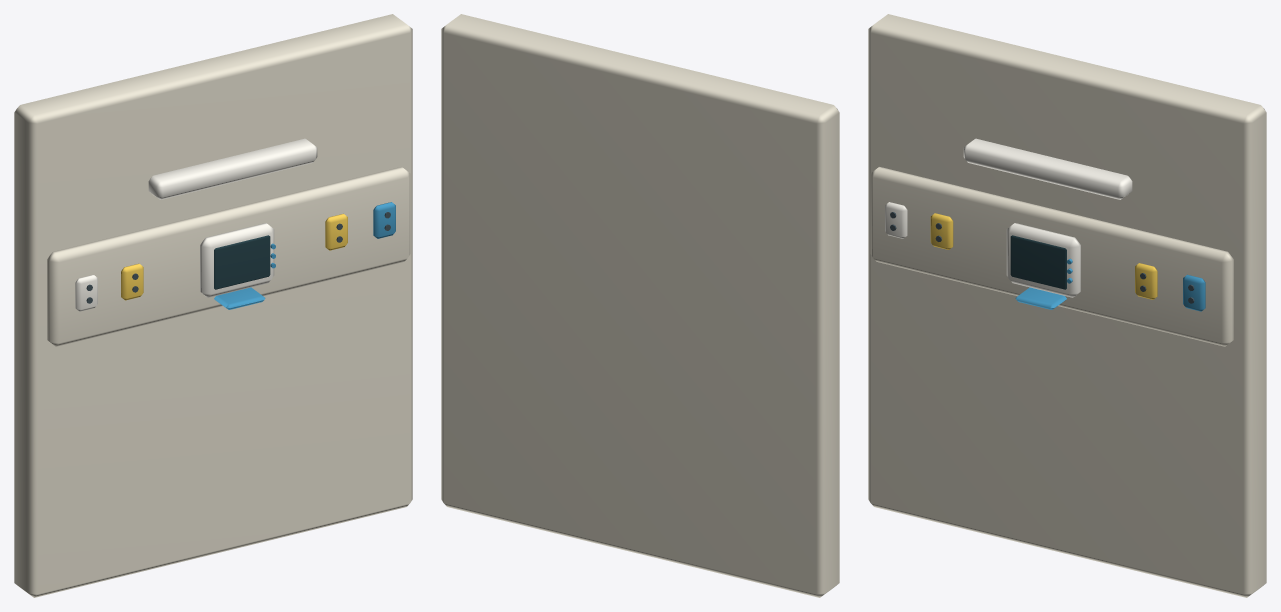
The model's file is RecoveryHeadwall_starter.glb.
3 renders of one model, left to right at view 1: azimuth 30°, elevation 25°; view 2: azimuth 150°, elevation 25°; view 3: azimuth 330°, elevation 25°, orthographic.
Parts seen in each view (by area): view 1: Static_ivory, Static_white, Static_screen, Static_blue, Static_yellow; view 2: Static_ivory; view 3: Static_ivory, Static_white, Static_screen, Static_blue, Static_yellow.
Part boxes in pixels (x1=…): Static_ivory: x1=14, y1=14, x2=412, y2=597; Static_white: x1=75, y1=138, x2=317, y2=311; Static_screen: x1=214, y1=235, x2=270, y2=289; Static_blue: x1=214, y1=202, x2=395, y2=309; Static_yellow: x1=121, y1=213, x2=347, y2=300; Static_ivory: x1=441, y1=14, x2=839, y2=597; Static_ivory: x1=868, y1=14, x2=1266, y2=597; Static_white: x1=885, y1=138, x2=1132, y2=297; Static_screen: x1=1010, y1=235, x2=1066, y2=289; Static_blue: x1=1015, y1=258, x2=1205, y2=311; Static_yellow: x1=930, y1=213, x2=1157, y2=299.
Size of the model in its own units: 1.6 by 1.92 by 0.32.
